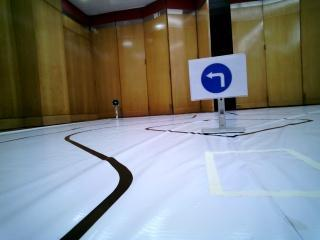left: (195, 63, 243, 95)
